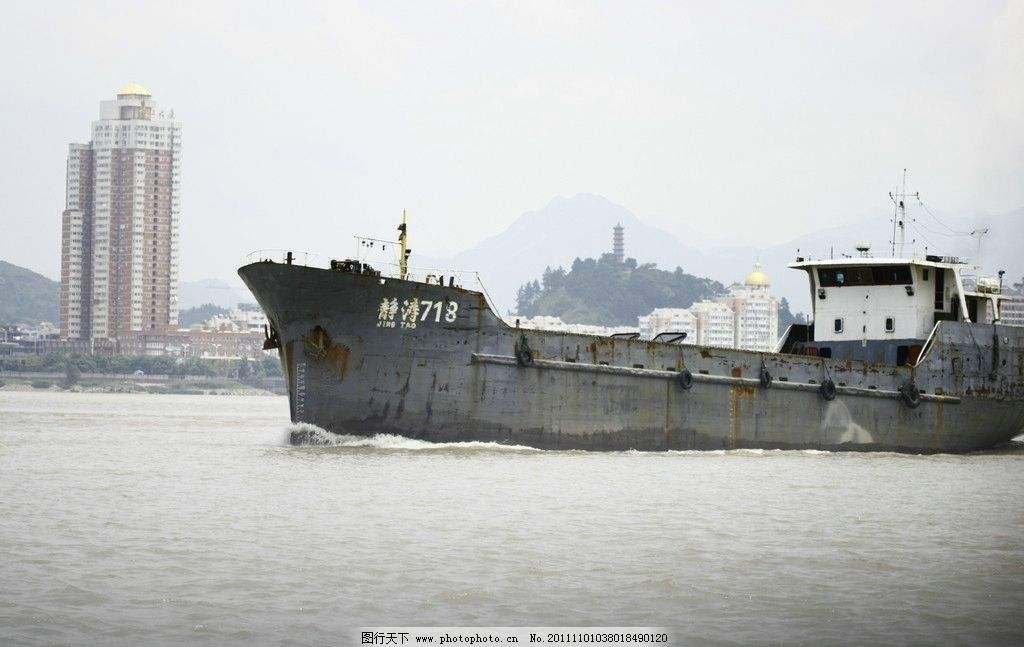Cargoship: (229, 205, 1024, 440)
